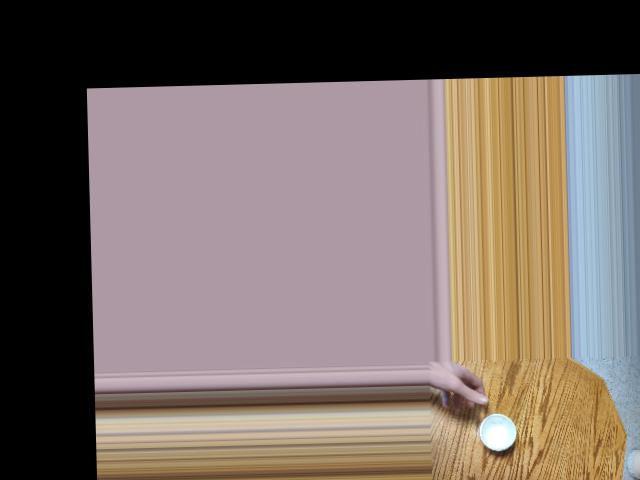cotage: (469, 409, 517, 450)
